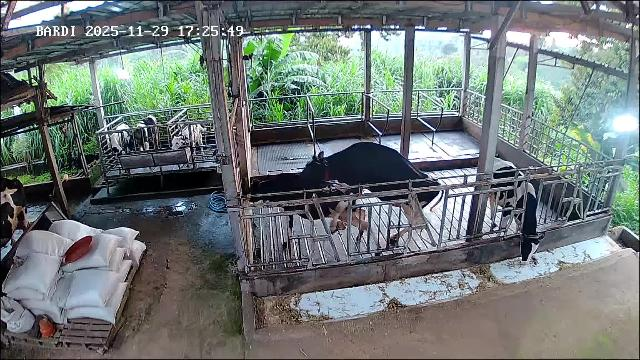mounting: (299, 142, 440, 246)
